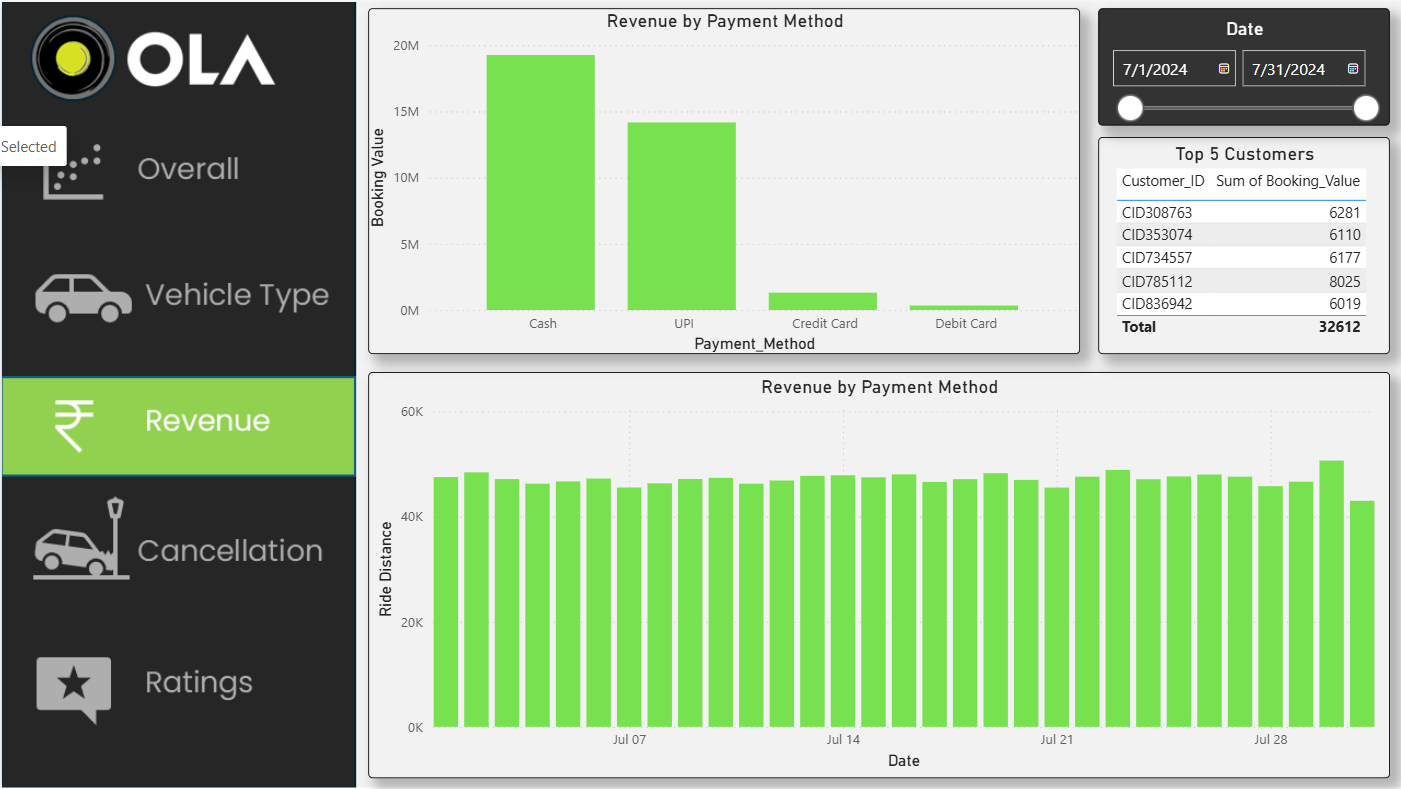

What the dashboard file says about the page in this screenshot:
{"tool":"powerbi","page":{"name":"Revenue","canvas":[1280,720],"ordinal":2},"visuals":[{"type":"actionButton","box":[0,343.9,323.8,87.1],"z":0},{"type":"actionButton","box":[0,224.4,323.8,87.1],"z":1000},{"type":"actionButton","box":[0,450,323.8,87.1],"z":2000},{"type":"actionButton","box":[0,582.9,323.8,87.1],"z":3000},{"type":"actionButton","box":[0,446.4,323.8,96.4],"z":4000},{"type":"actionButton","box":[0,225,323.8,86.9],"z":5000},{"type":"actionButton","box":[0,113.1,323.8,86.9],"z":6000},{"type":"actionButton","box":[0,447.6,323.8,96.4],"z":7000},{"type":"actionButton","box":[0,582.1,323.8,88.1],"z":8000},{"type":"actionButton","box":[0,112.7,324.8,86.3],"z":9000},{"type":"columnChart","title":"Revenue by Payment Method","fields":{"Category":["July.Payment_Method"],"Y":["Sum(July.Booking_Value)"]},"box":[334.8,5.8,650.7,315.9],"z":10000},{"type":"columnChart","title":"Revenue by Payment Method","fields":{"Y":["Sum(July.Ride_Distance)"],"Category":["July.Date"]},"box":[334.8,337.7,933.3,371],"z":11000},{"type":"slicer","title":"Date","fields":{"Values":["July.Date"]},"box":[1001.4,5.8,266.7,107.2],"z":12000},{"type":"tableEx","title":"Top 5 Customers","fields":{"Values":["July.Customer_ID","Sum(July.Booking_Value)"]},"box":[1001.4,123.2,266.7,198.6],"z":13000}]}

Visuals, with their boxes in screenshot pixels (x1, y1, x2, y2), scaled from the page's 1280x720 canvas onto the 1401x789 screenshot:
actionButton: <region>0, 377, 354, 472</region>
actionButton: <region>0, 246, 354, 341</region>
actionButton: <region>0, 493, 354, 589</region>
actionButton: <region>0, 639, 354, 734</region>
actionButton: <region>0, 489, 354, 595</region>
actionButton: <region>0, 247, 354, 342</region>
actionButton: <region>0, 124, 354, 219</region>
actionButton: <region>0, 490, 354, 596</region>
actionButton: <region>0, 638, 354, 734</region>
actionButton: <region>0, 124, 356, 218</region>
"Revenue by Payment Method" columnChart: <region>366, 6, 1079, 353</region>
"Revenue by Payment Method" columnChart: <region>366, 370, 1388, 777</region>
"Date" slicer: <region>1096, 6, 1388, 124</region>
"Top 5 Customers" tableEx: <region>1096, 135, 1388, 353</region>
